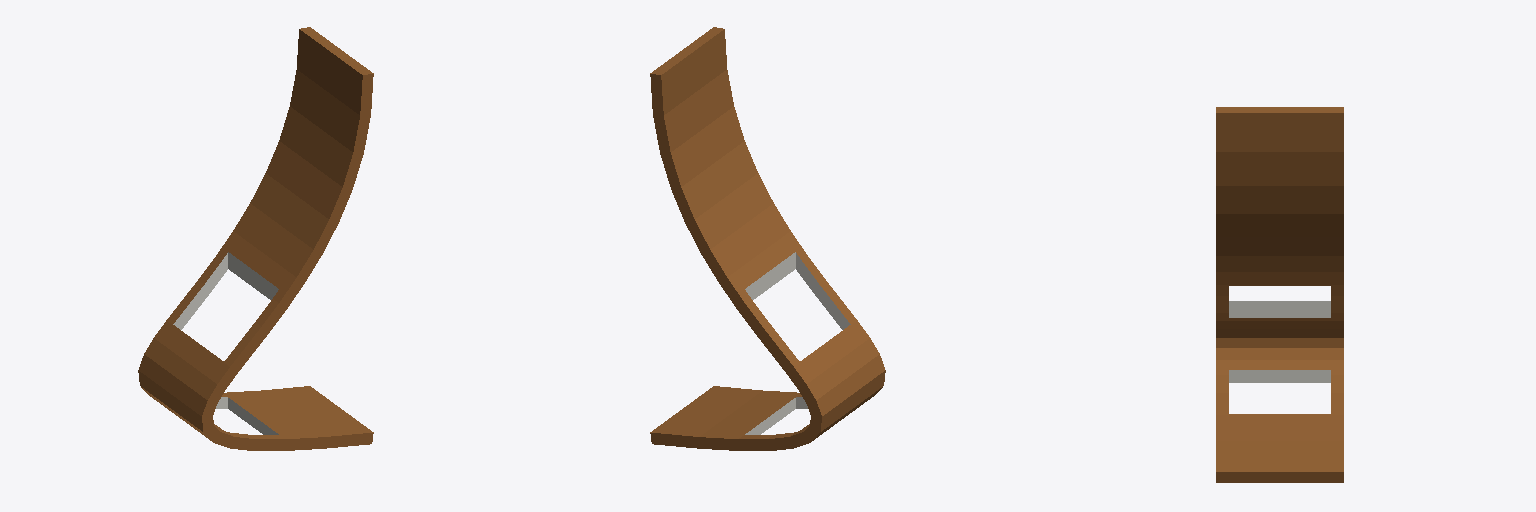
Rendered from wall2.obj.
3 renders of one model, left to right at view 1: azimuth 30°, elevation 25°; view 2: azimuth 150°, elevation 25°; view 3: azimuth 270°, elevation 25°, orthographic.
Parts seen in each view (by area): view 1: Mesh1 Difference Model; view 2: Mesh1 Difference Model; view 3: Mesh1 Difference Model.
Boxes of the visible parts, x1=… form: Mesh1 Difference Model: x1=138, y1=27, x2=373, y2=450; Mesh1 Difference Model: x1=650, y1=27, x2=885, y2=450; Mesh1 Difference Model: x1=1216, y1=107, x2=1343, y2=482.
Bounding box in the file's own units: 15.6 × 32.19 × 10.